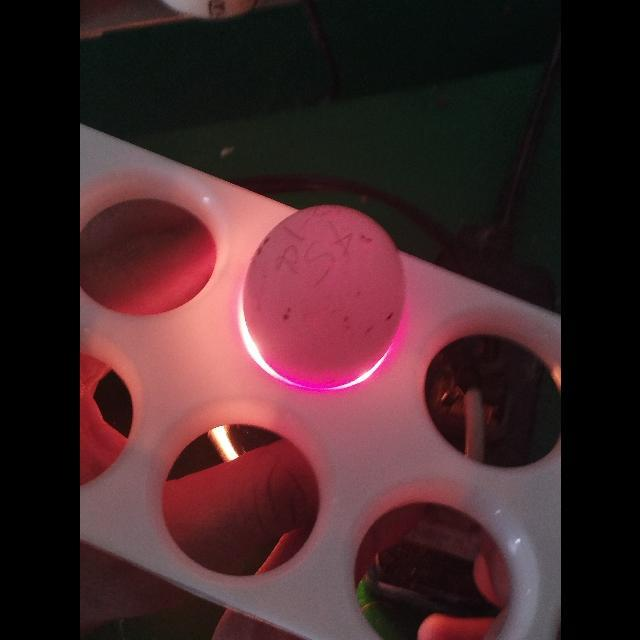Fertile: (242, 197, 404, 386)
